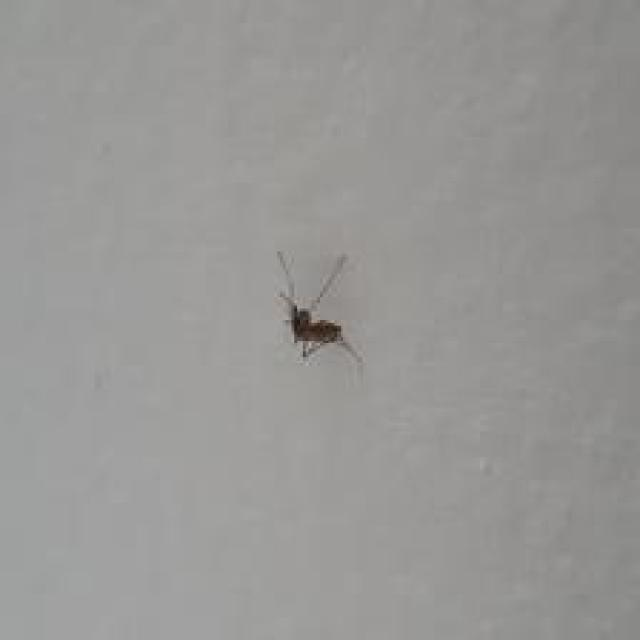Culex: (273, 247, 364, 370)
